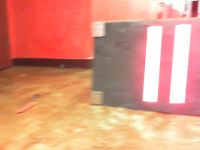switch: (168, 23, 191, 104), (142, 26, 162, 102)
